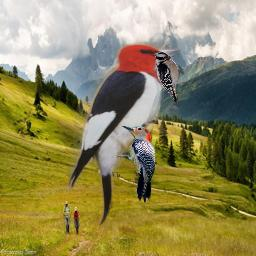Woodpecker: (67, 42, 181, 226), (116, 126, 155, 203), (155, 52, 185, 103)
